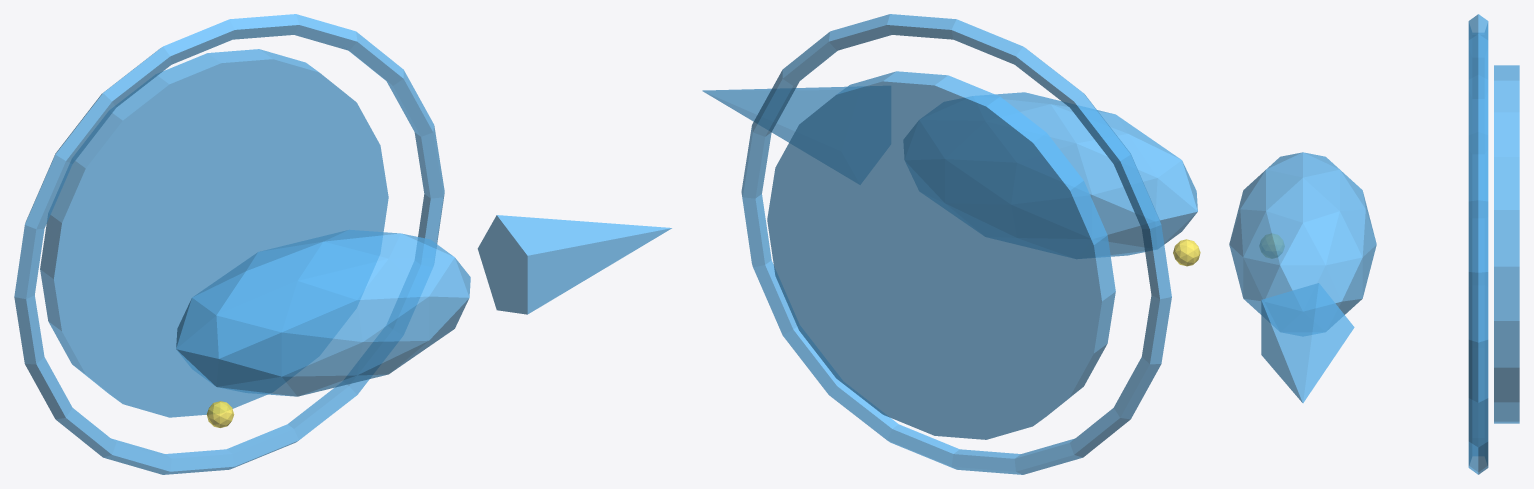
Rendered from 05_fish_critter.glb.
3 views of the same model, side by side, from view 1: azimuth 30°, elevation 25°; view 2: azimuth 150°, elevation 25°; view 3: azimuth 270°, elevation 25° (orthographic). The views are drawn at different scales.
Visible parts, largest first — view 1: base_disc, body, base_ring, tail; view 2: base_disc, body, base_ring, tail, eye; view 3: body, base_ring, base_disc, tail, eye.
Part boxes in pixels (bbox=[...]): base_disc: bbox=[40, 49, 388, 417]; body: bbox=[176, 229, 470, 396]; base_ring: bbox=[14, 14, 444, 474]; tail: bbox=[477, 215, 671, 314]; base_disc: bbox=[767, 71, 1115, 439]; body: bbox=[904, 92, 1197, 258]; base_ring: bbox=[741, 14, 1171, 474]; tail: bbox=[702, 86, 890, 184]; eye: bbox=[1173, 239, 1200, 266]; body: bbox=[1229, 152, 1376, 335]; base_ring: bbox=[1468, 14, 1488, 474]; base_disc: bbox=[1494, 65, 1519, 423]; tail: bbox=[1261, 283, 1354, 403]; eye: bbox=[1260, 234, 1284, 257].
Size of the model in its own units: 1.18 by 0.9 by 0.563.
